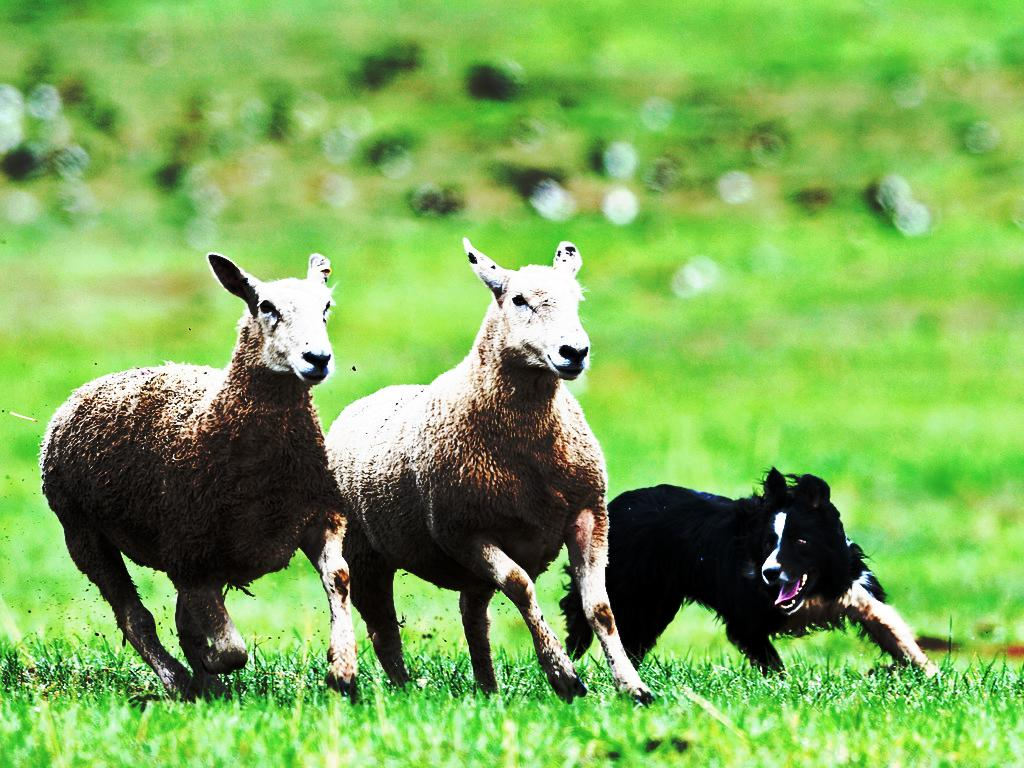Sheep: (323, 237, 650, 714), (41, 257, 354, 699)
